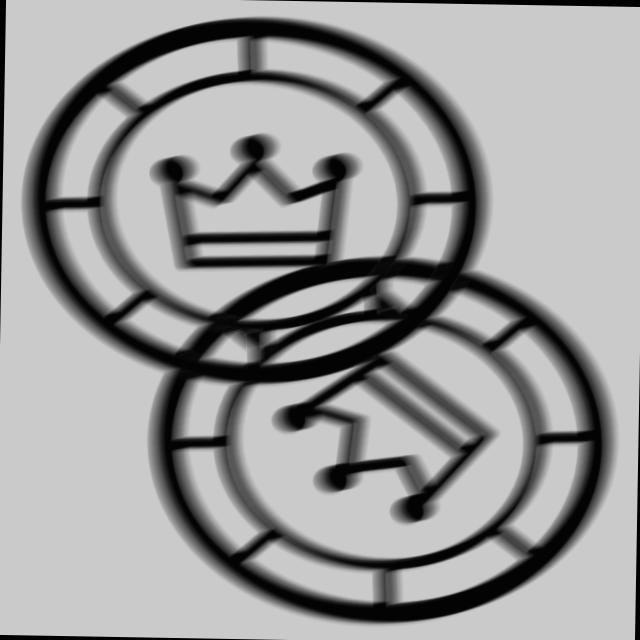coin: (7, 6, 506, 401), (136, 247, 635, 640)
